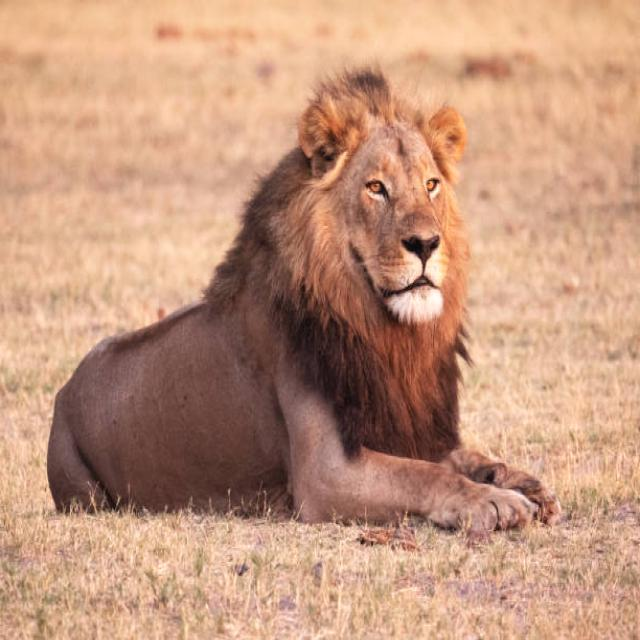lions: (0, 58, 590, 624)
